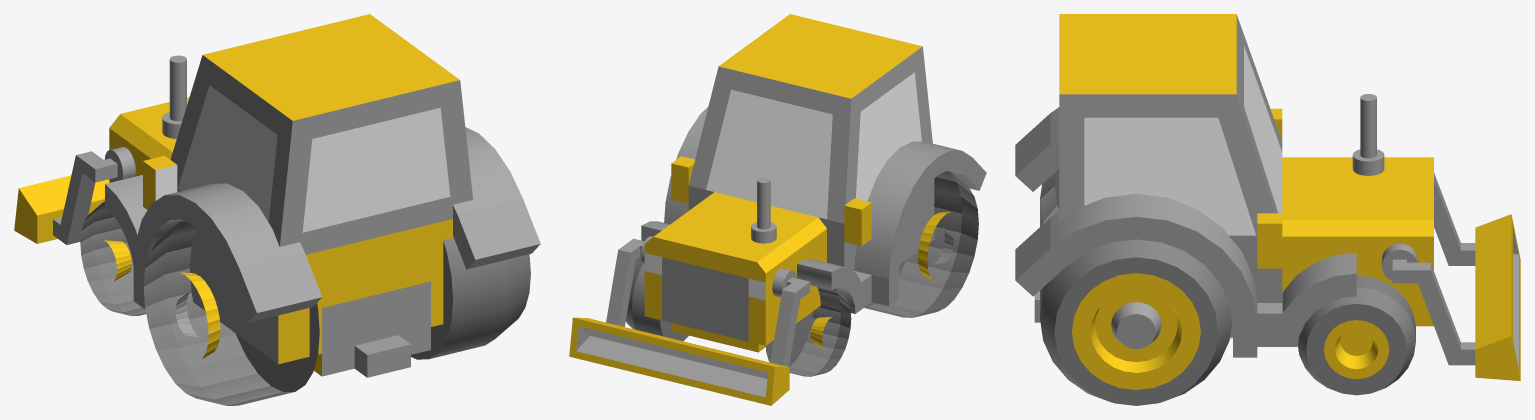
File: tractorShovel.glb
The picture shows the model from 3 angles, left to right: view 1: azimuth 30°, elevation 25°; view 2: azimuth 150°, elevation 25°; view 3: azimuth 270°, elevation 25°; orthographic projection. The views are drawn at different scales.
Visible parts, largest first — view 1: body; view 2: body; view 3: body.
Boxes of the visible parts, <box> form: body: <box>14,14,540,405</box>; body: <box>569,14,986,405</box>; body: <box>1015,14,1520,405</box>.
Size of the model in its own units: 1.56 by 1.46 by 2.29.
